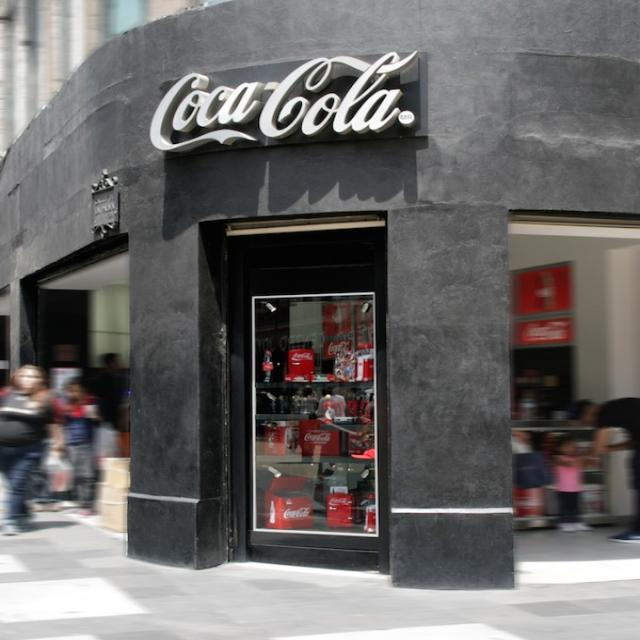coca cola: (146, 49, 440, 160)
